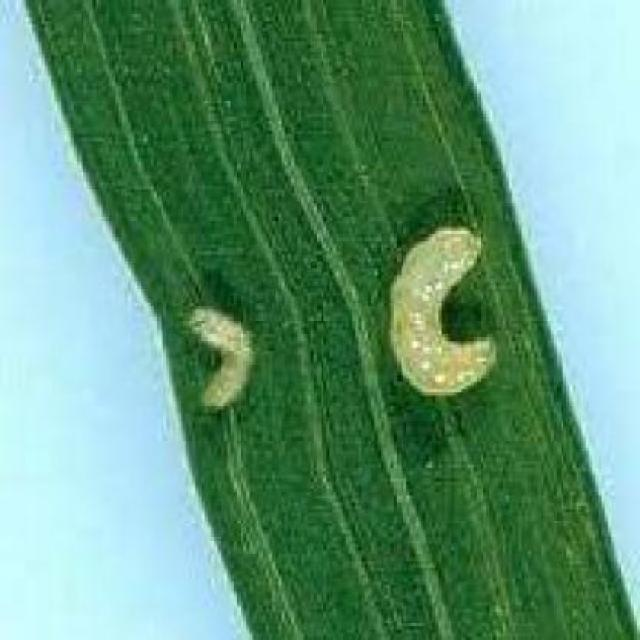whorl-maggot: (375, 212, 500, 414), (182, 283, 263, 428)
